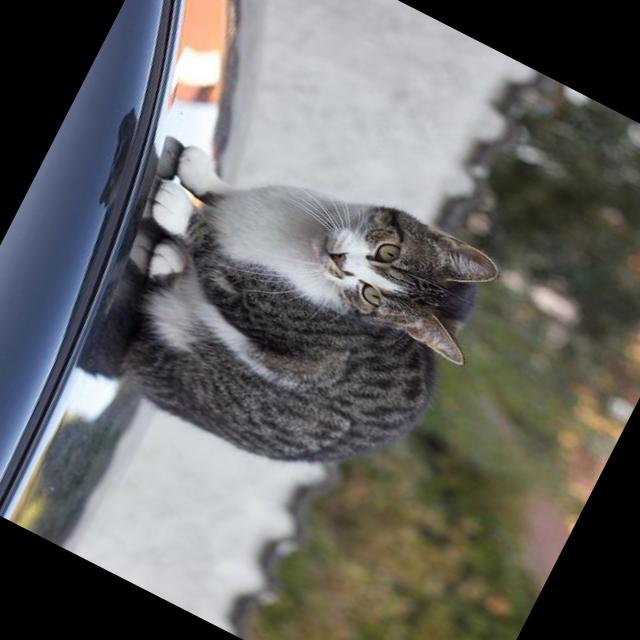car: (0, 0, 376, 560)
cat: (56, 99, 522, 537)
